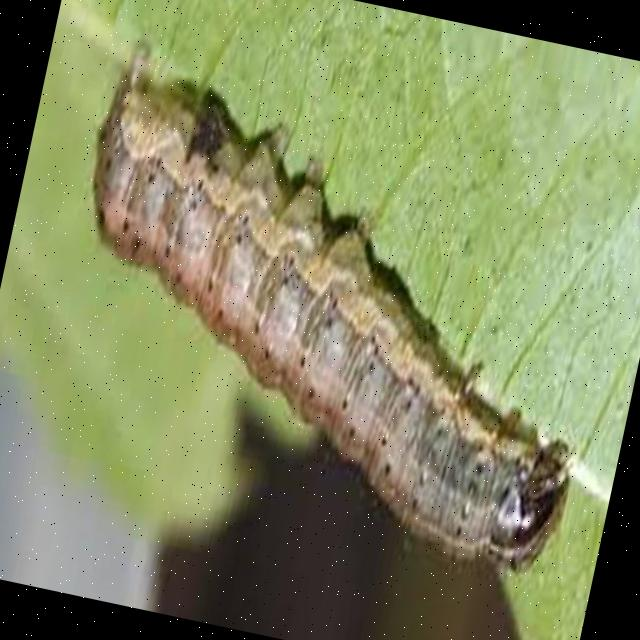worm: (23, 37, 640, 593)
